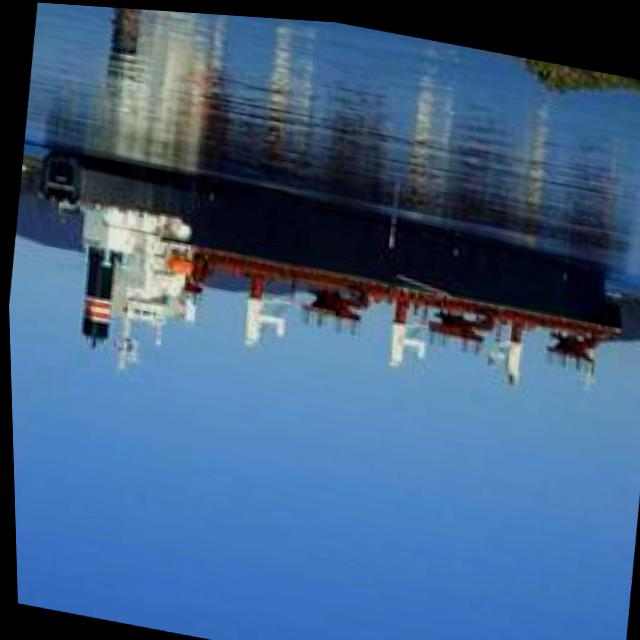ship2: (37, 149, 620, 383)
